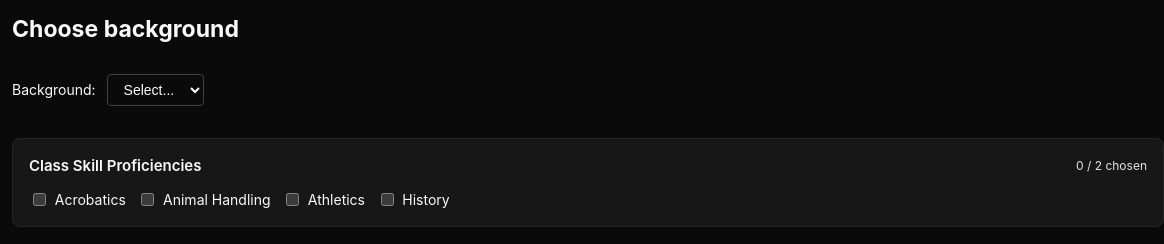
Test: BackgroundStep › disables skill checkbox when at max selections
Click the checkbox labelled "Acrobatics".
click(40, 199)  # box [33,193,46,206]
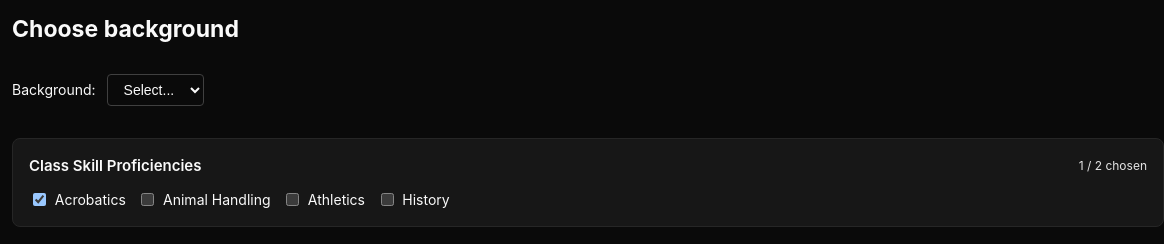
Click the checkbox labelled "Animal Handling".
click(148, 199)  # box [141,193,154,206]
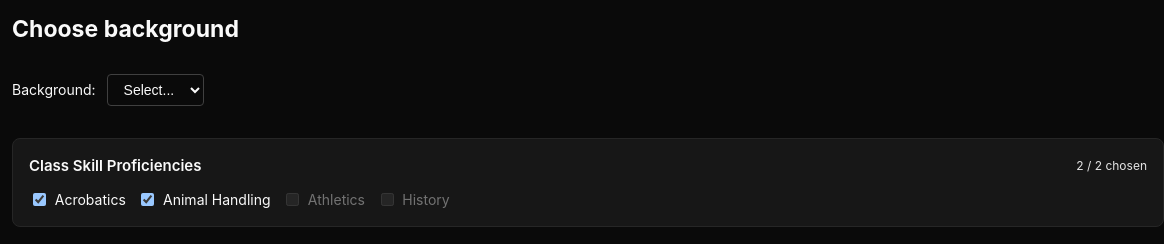
Check: the checkbox labelled "Athletics" is disabled, box [286,193,299,206]
